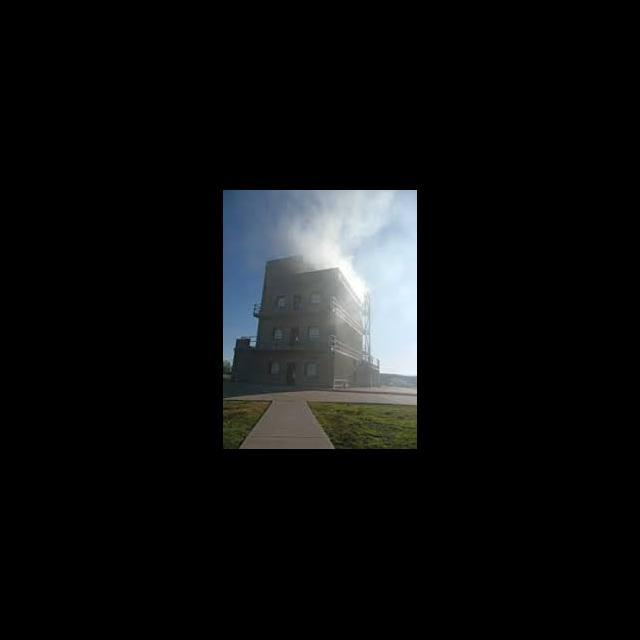Smoke: (258, 192, 392, 300)
